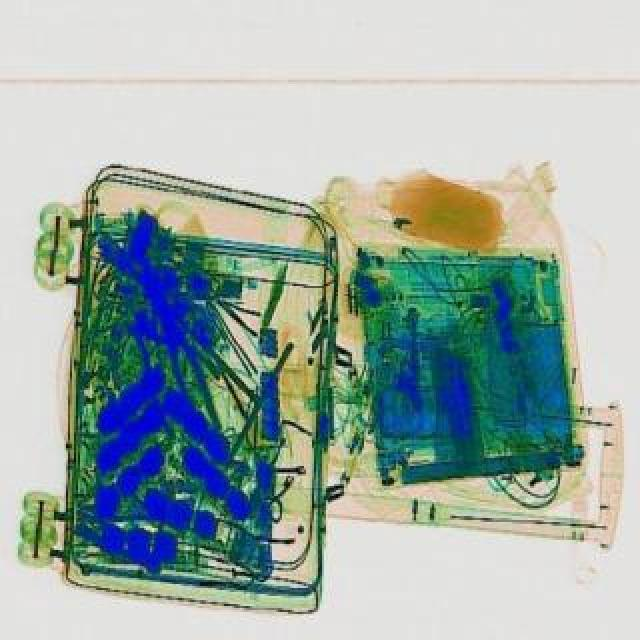wrench: (154, 310, 226, 430)
